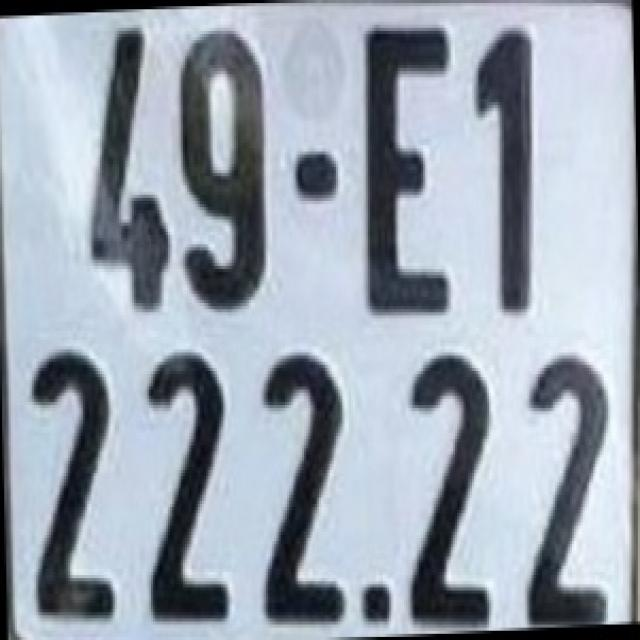1: (470, 22, 546, 315)
2: (23, 340, 122, 622), (255, 340, 351, 628), (140, 340, 236, 625), (402, 343, 497, 625), (521, 346, 614, 622)
4: (78, 22, 176, 315)
9: (172, 18, 279, 316)
E: (357, 12, 457, 322)
